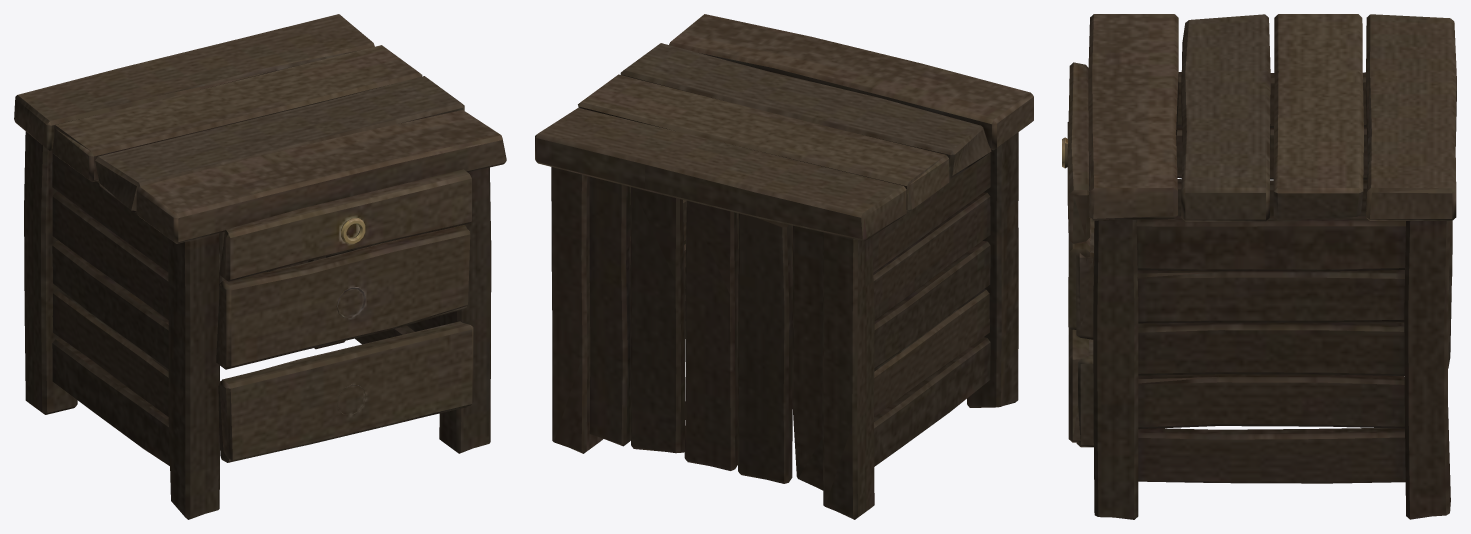
File: dresser.glb
3 renders of one model, left to right at view 1: azimuth 30°, elevation 25°; view 2: azimuth 150°, elevation 25°; view 3: azimuth 270°, elevation 25°, orthographic. The views are drawn at different scales.
Visible parts, largest first — view 1: dresser; view 2: dresser; view 3: dresser.
Boxes of the visible parts, x1=… form: dresser: x1=14, y1=14, x2=506, y2=519; dresser: x1=535, y1=14, x2=1033, y2=519; dresser: x1=1062, y1=14, x2=1456, y2=519.
Bounding box in the file's own units: 0.86 × 0.7719 × 0.8091.
Materials: 1 (1 with a texture image).
